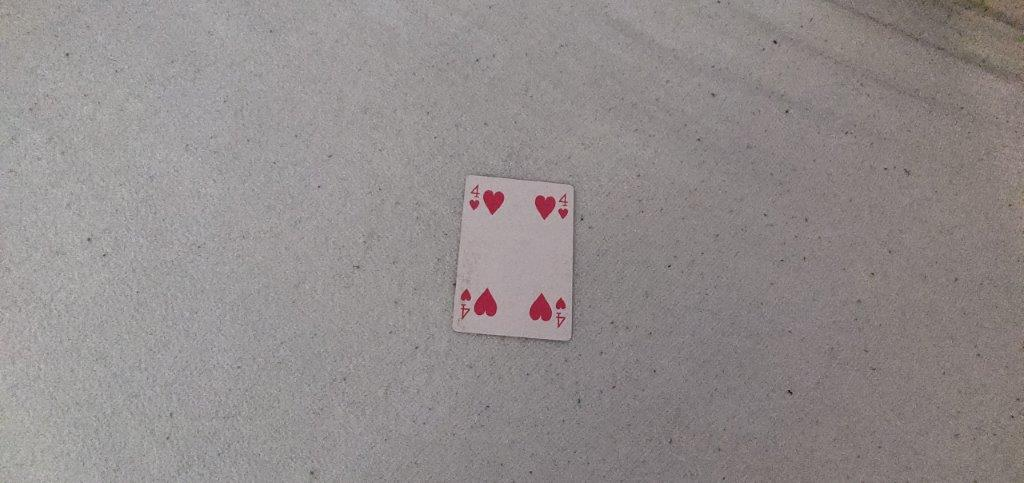4H: (465, 181, 482, 213), (557, 192, 572, 223)
